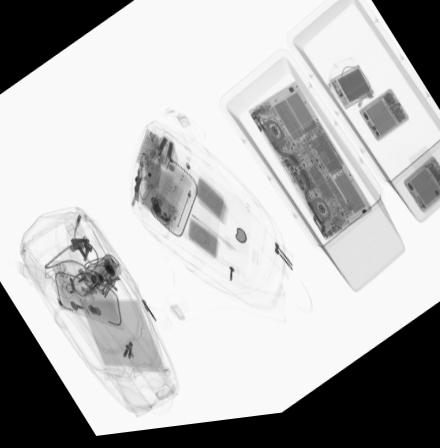Powerbank: (325, 71, 374, 120)
